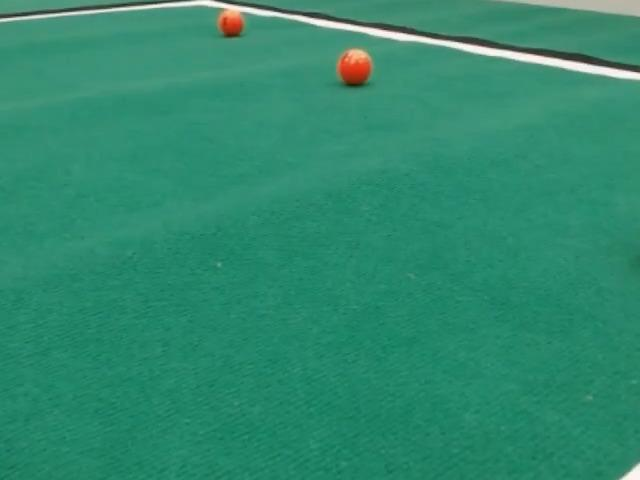Ball: (337, 49, 372, 85), (218, 9, 244, 36)
